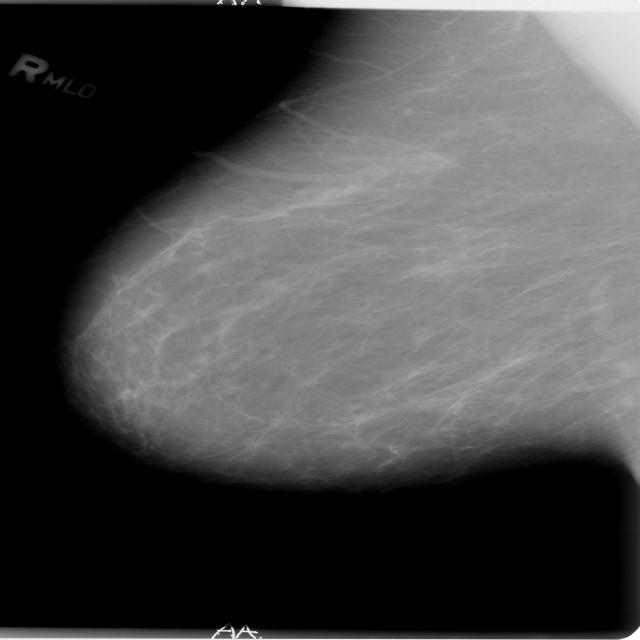normal: (73, 0, 640, 491)
